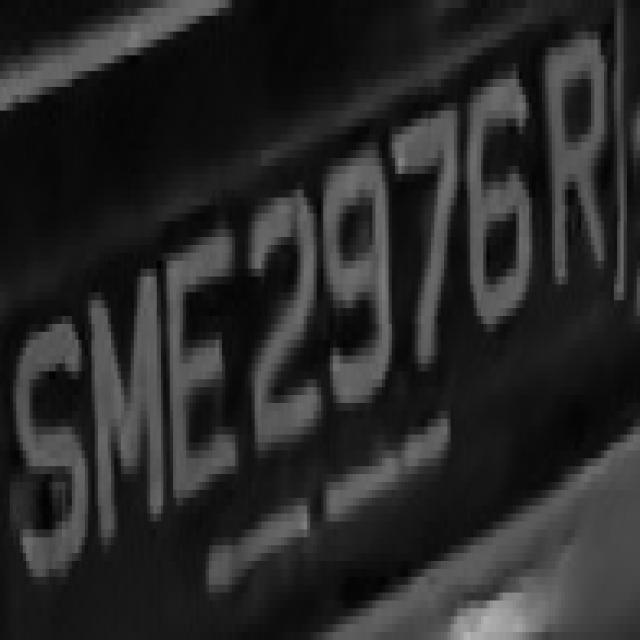2: (238, 182, 330, 458)
6: (454, 79, 532, 363)
7: (382, 87, 467, 387)
9: (310, 142, 405, 442)
E: (163, 221, 248, 545)
M: (88, 269, 170, 569)
R: (532, 24, 617, 316)
S: (9, 292, 82, 592)
